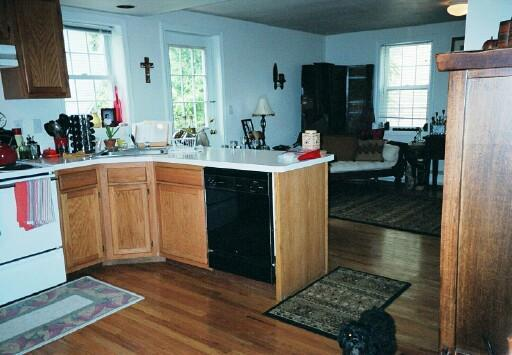Armario: (440, 52, 511, 345)
Electrodomestico: (204, 167, 277, 287), (3, 169, 65, 293)
Otro Obstaculo: (334, 307, 402, 354)
